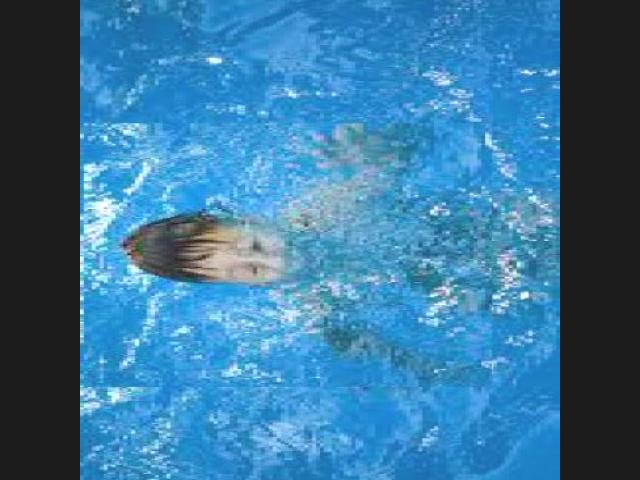drowning: (84, 121, 494, 386)
